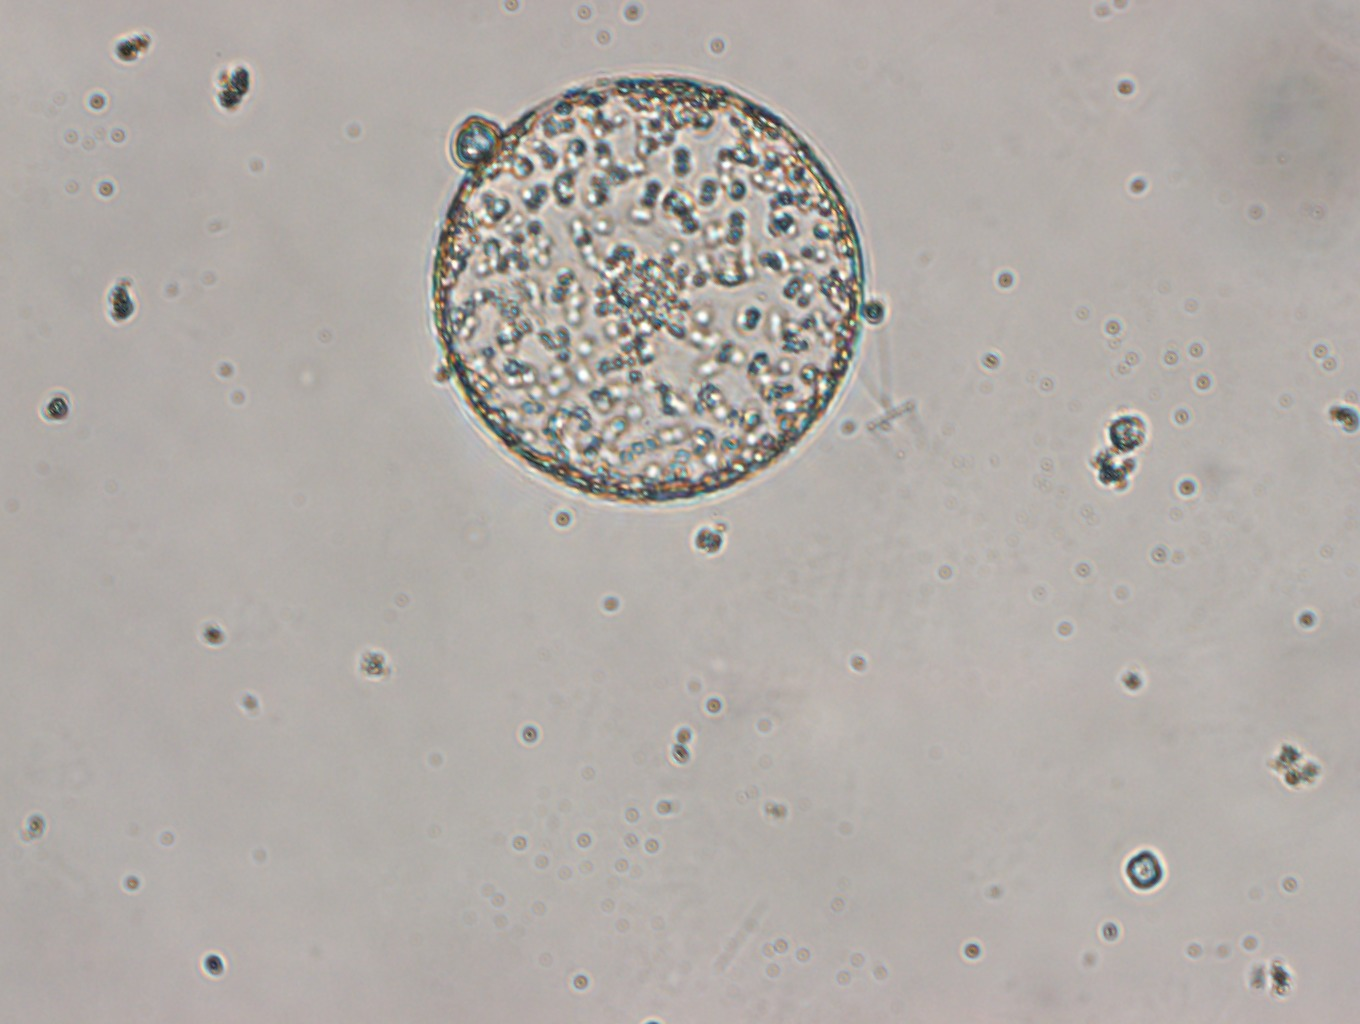coscinodiscus: (430, 72, 867, 507)
